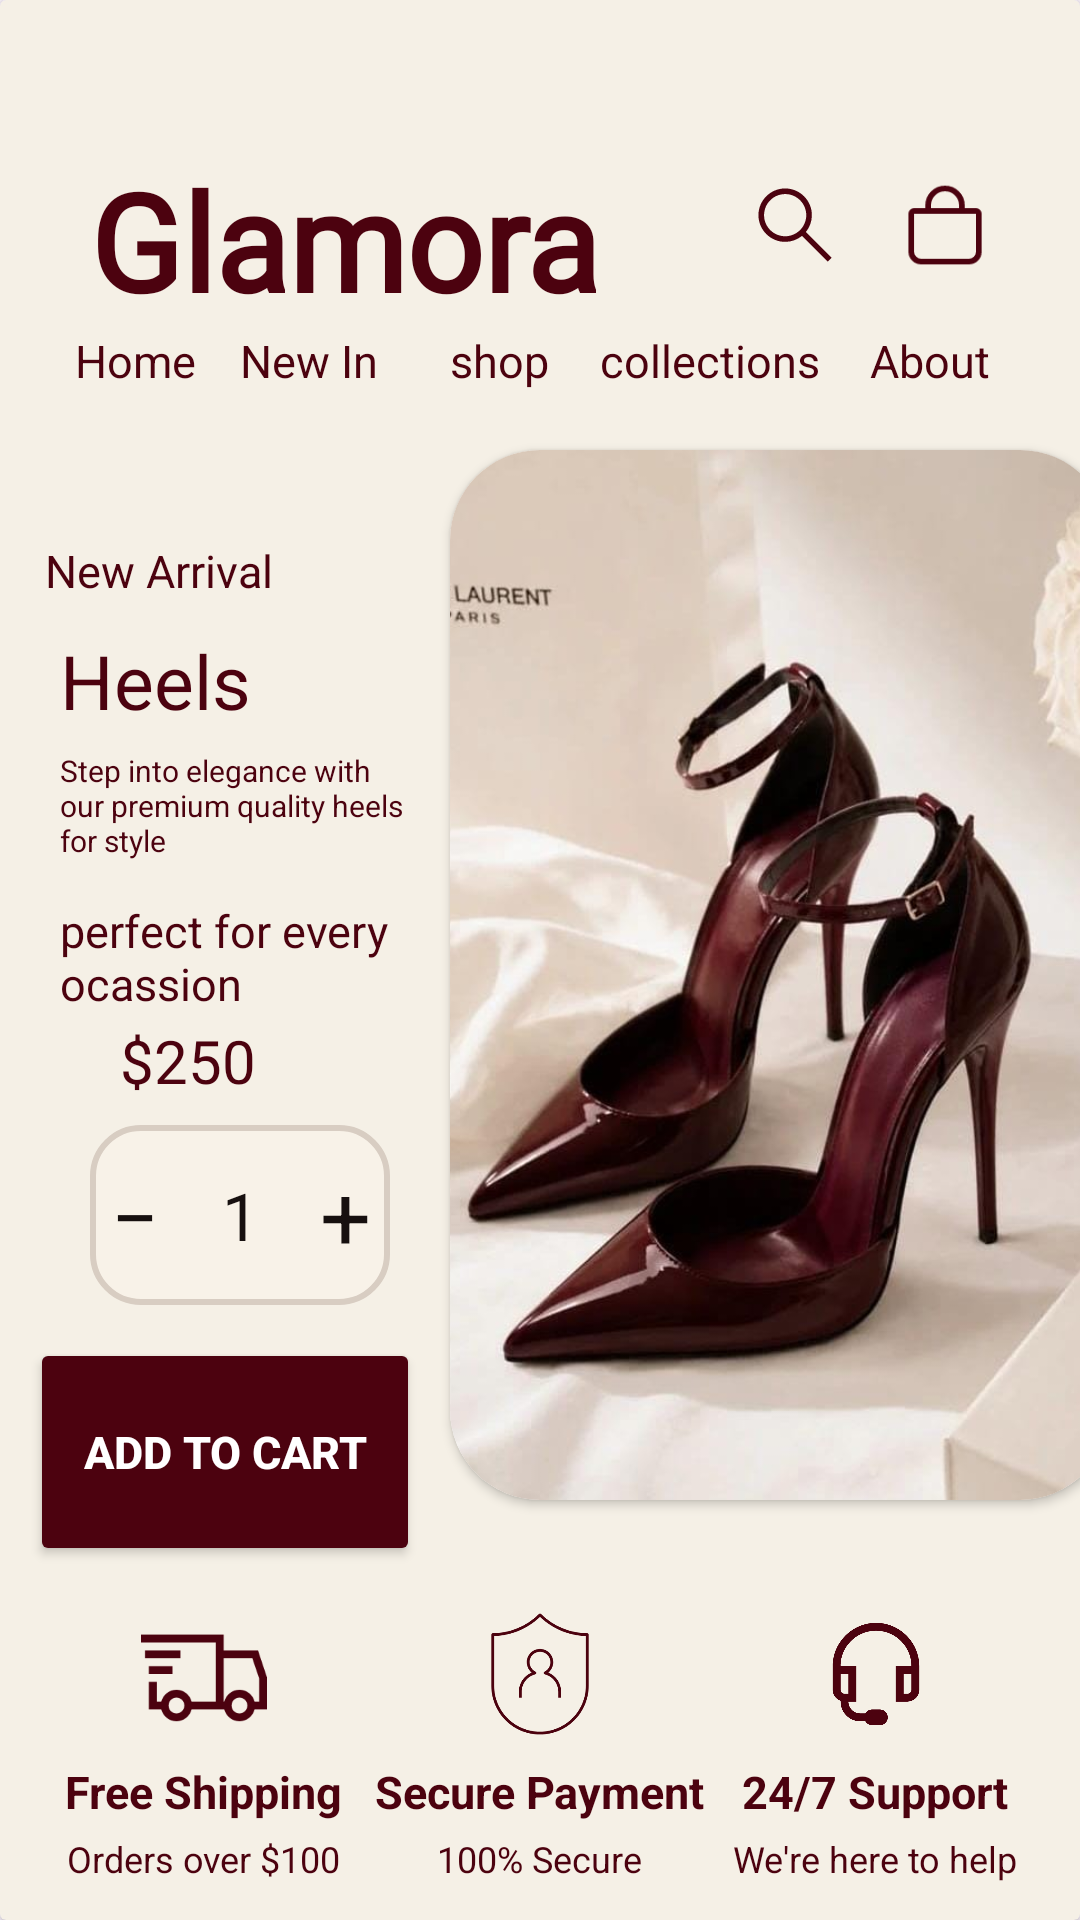

Screen size 1080 x 1920. Icon name, then its box in pixels as (x1, y1, x2, y2):
magnifying glass: (758, 188, 832, 262)
